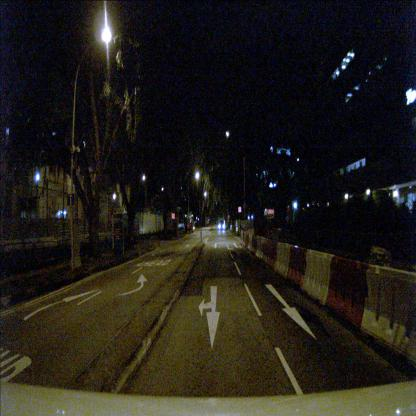movable_object-barrier: (360, 263, 416, 373), (324, 256, 370, 334), (300, 248, 336, 308), (284, 245, 308, 290), (273, 240, 292, 280), (264, 239, 278, 269), (255, 234, 266, 262), (251, 233, 259, 256), (248, 232, 254, 252), (244, 230, 249, 249), (240, 230, 245, 245)
vehicle-car: (219, 220, 224, 230)
